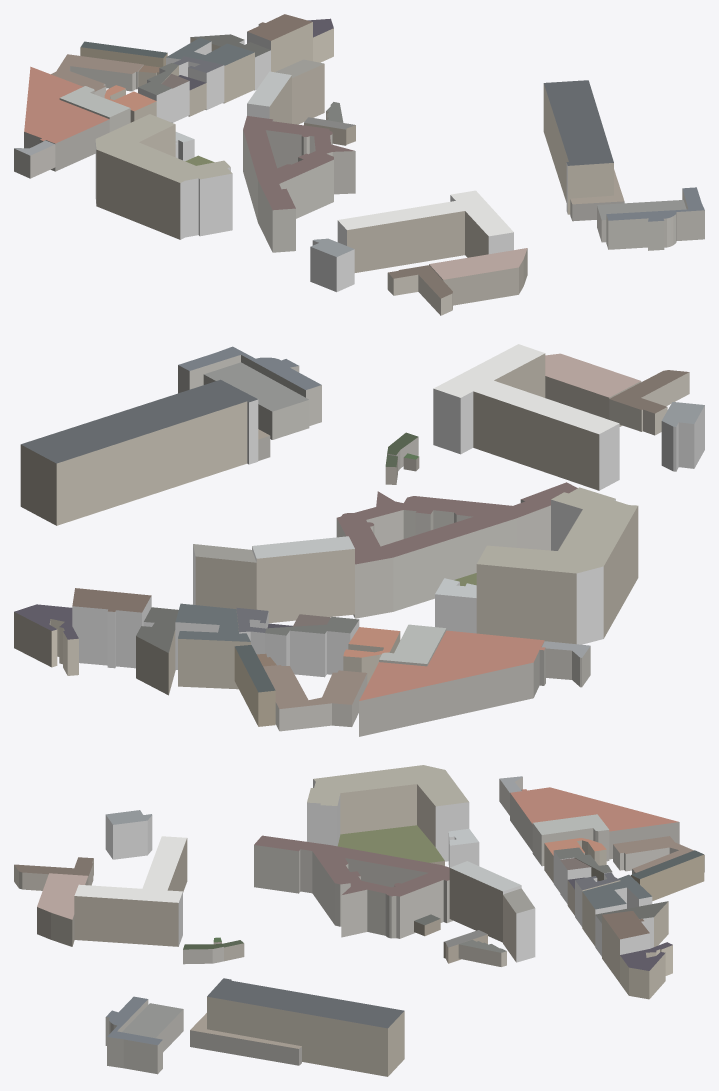
The picture shows the model from 3 angles, top to bottom: view 1: azimuth 30°, elevation 25°; view 2: azimuth 150°, elevation 25°; view 3: azimuth 270°, elevation 25°; orthographic projection. The views are drawn at different scales.
Visible parts, largest first — view 1: tuile; view 2: tuile; view 3: tuile.
Part boxes in pixels (x1=…): tuile: x1=14, y1=14, x2=704, y2=315; tuile: x1=14, y1=344, x2=704, y2=736; tuile: x1=14, y1=765, x2=704, y2=1076.
Size of the model in its own units: 234 by 36.65 by 278.
